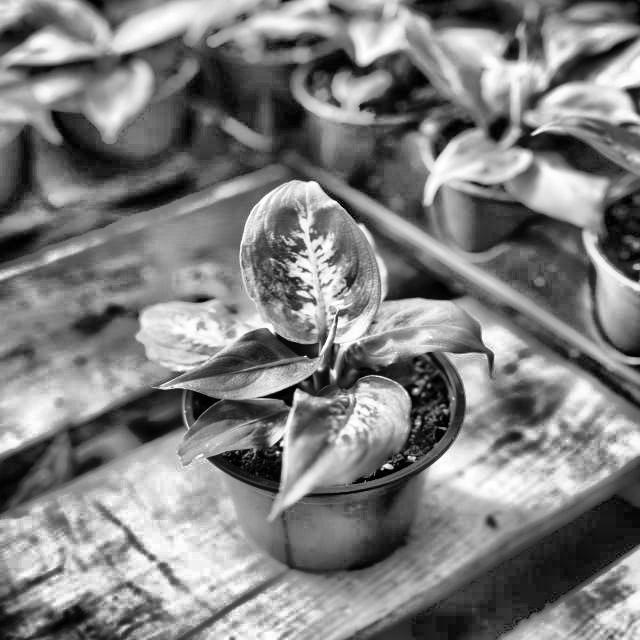plants: (125, 209, 500, 571)
